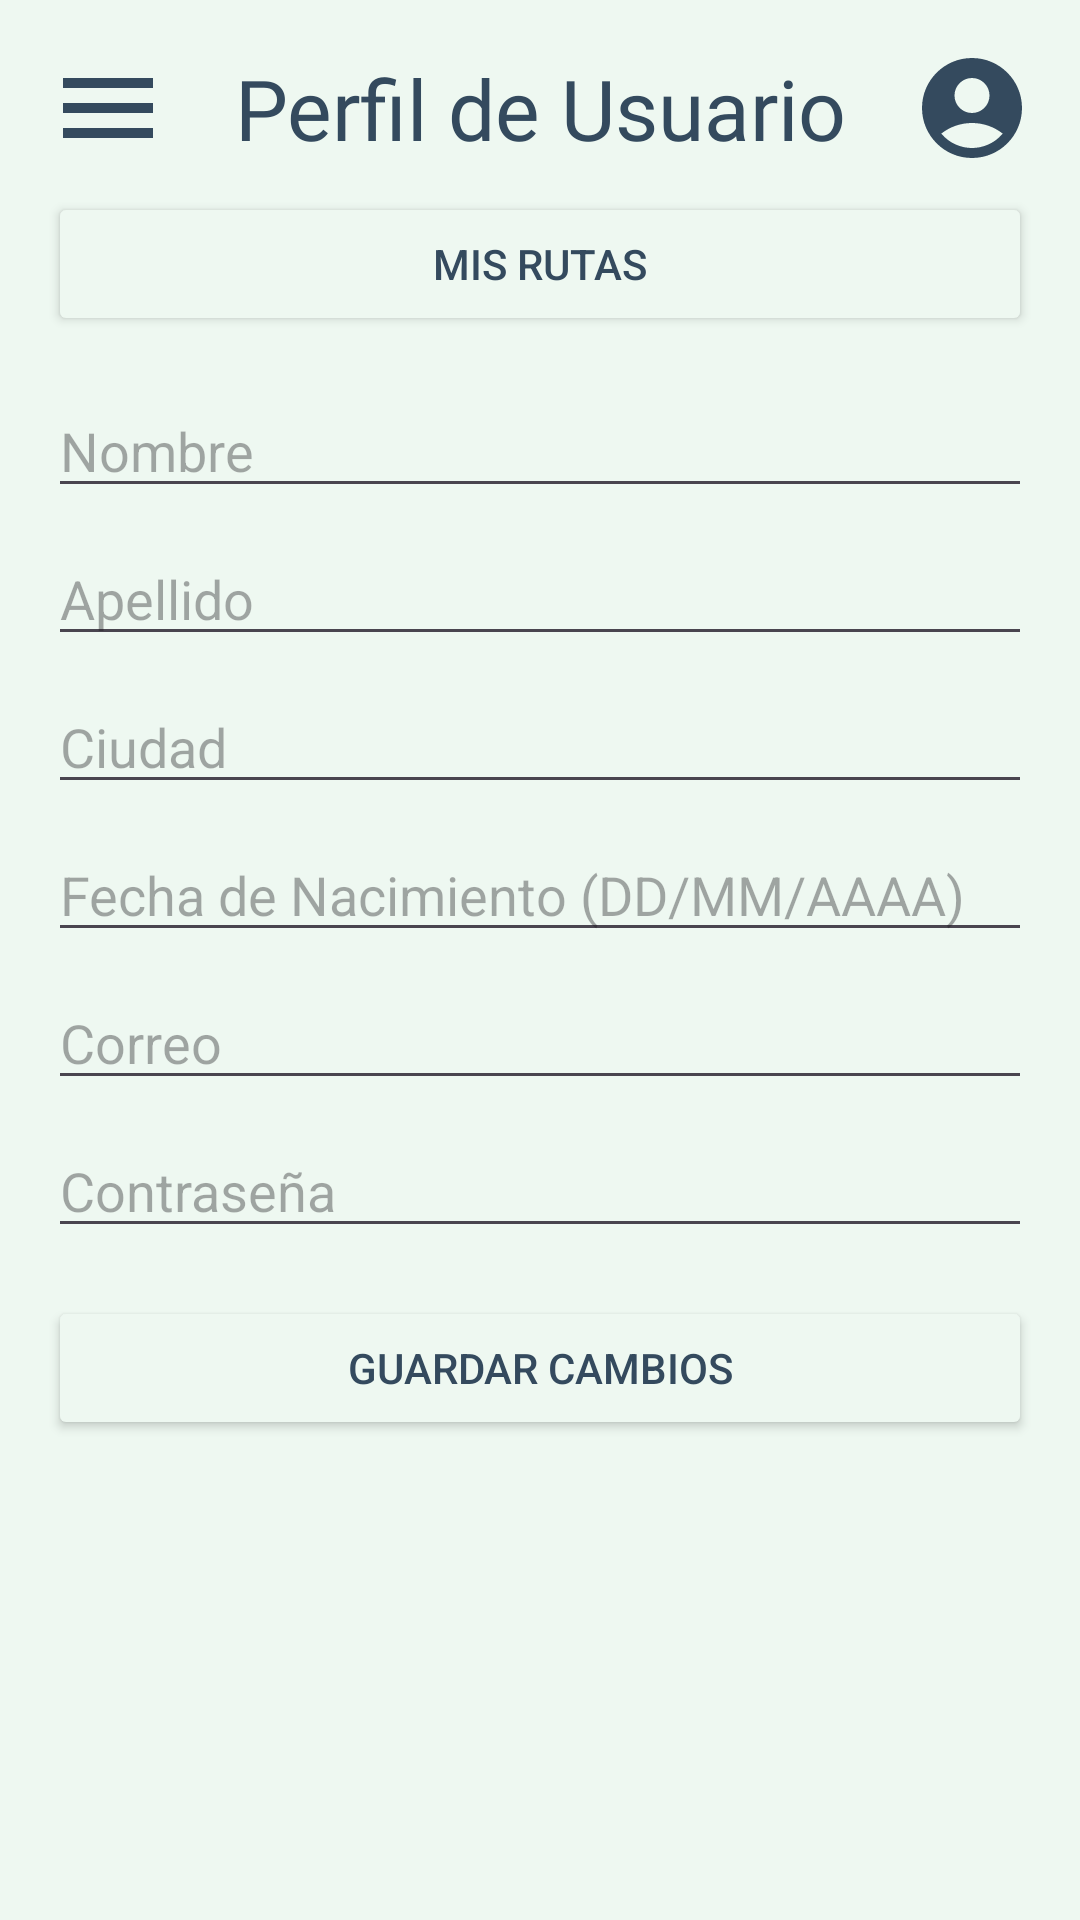

Where icons sit on this 1080×1920 app screen, as [left=x1, top=y1, right=x2, bottom=y2]:
account circle: [left=922, top=58, right=1022, bottom=158]
menu: [left=63, top=78, right=153, bottom=138]
